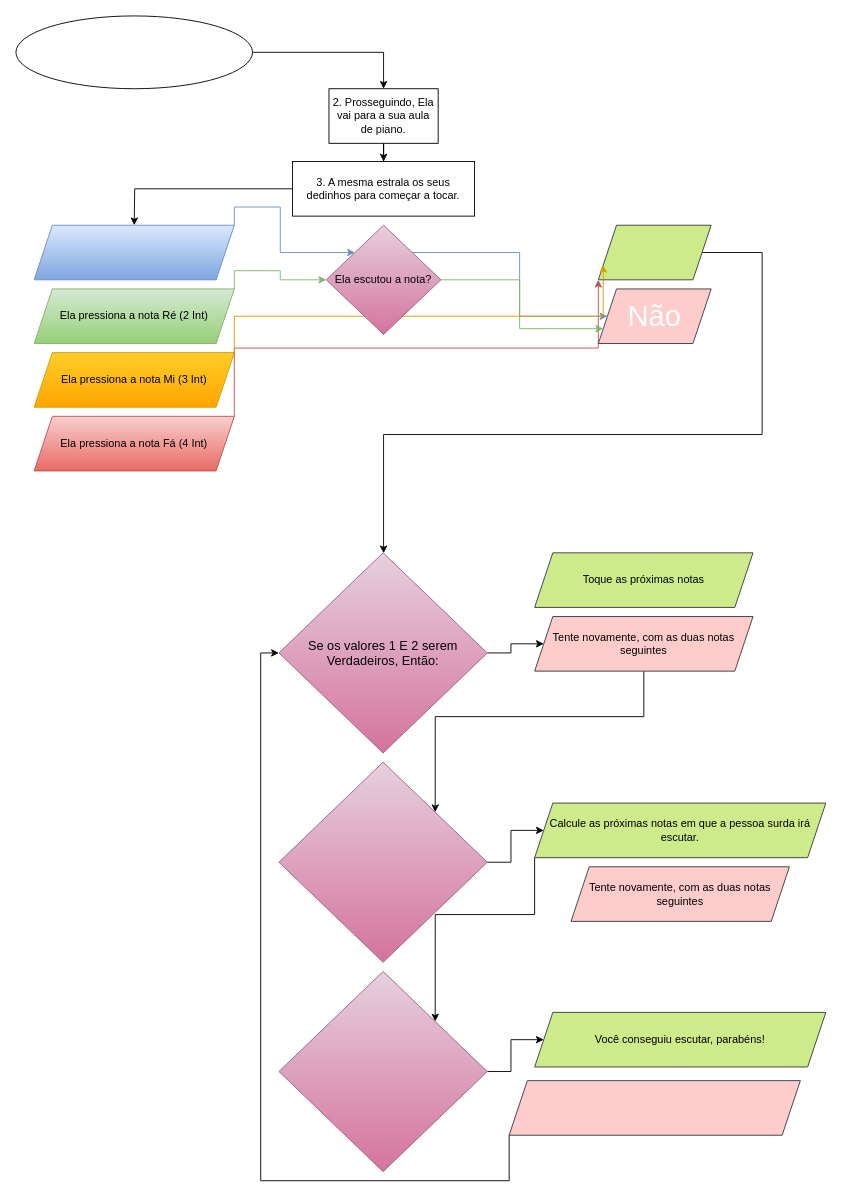
The diagram is 842 pixels wide and 1204 high, and some of its shapes have lost their labels. The shapes that lost their labels are listed below. From the top down, each one's centre as x and y in pixels, then its label:
At point (134, 52): "1. Digamos que uma pessoa surda escute apenas 2 a cada 2 Notas Musicais".
At point (133, 252): "Ela pressiona a nota Dó (1 Int)".
At point (654, 252): "Sim".
At point (382, 861): "Se os valores 3 E 4 serem Verdadeiros, Então:".
At point (382, 1071): "Se os valores serem == 7 OU 8. Então:".
At point (654, 1107): "Poxa! Não foi desta vez, tente novamente!".
